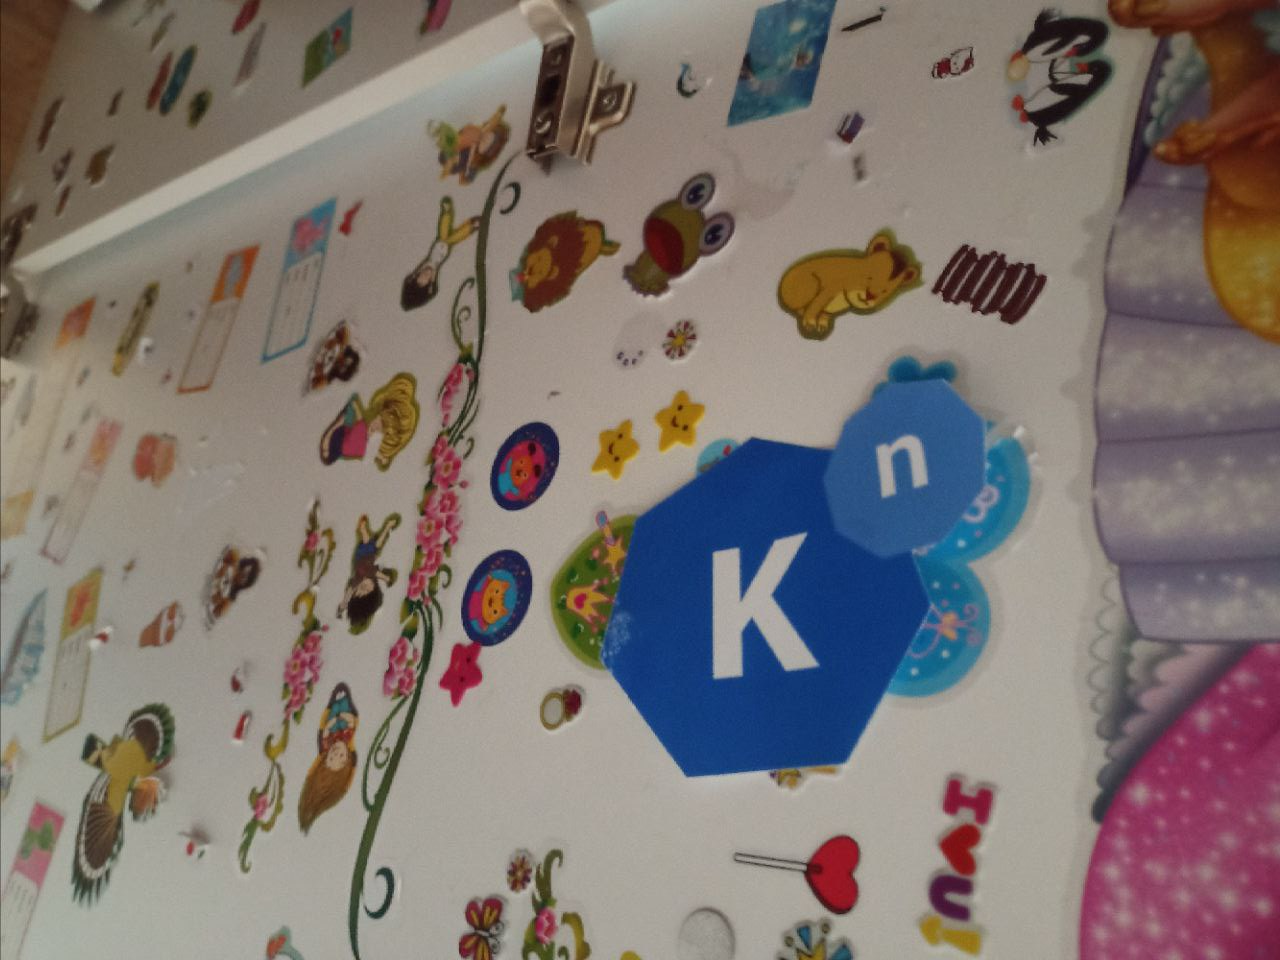knative: (605, 380, 984, 779)
